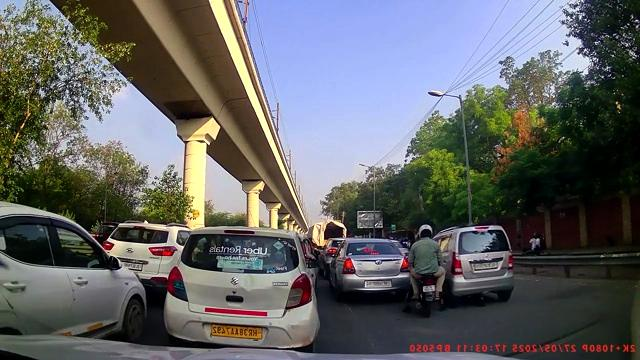passenger_with_helmet: (402, 225, 446, 318)
